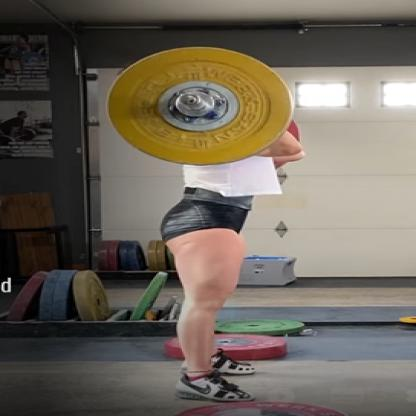Barbell: (99, 40, 300, 170)
